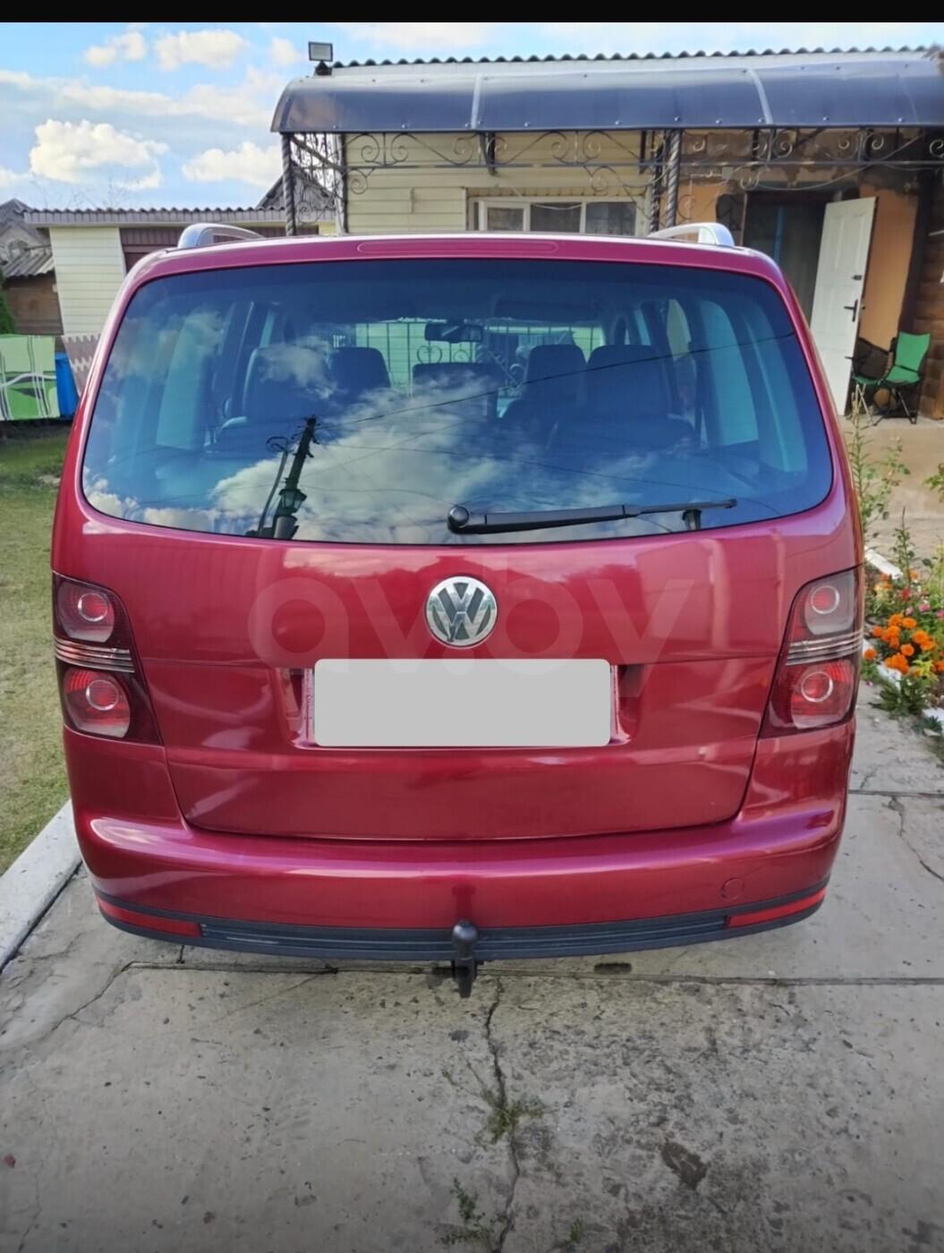Touran_2006-2010: (45, 227, 850, 963)
